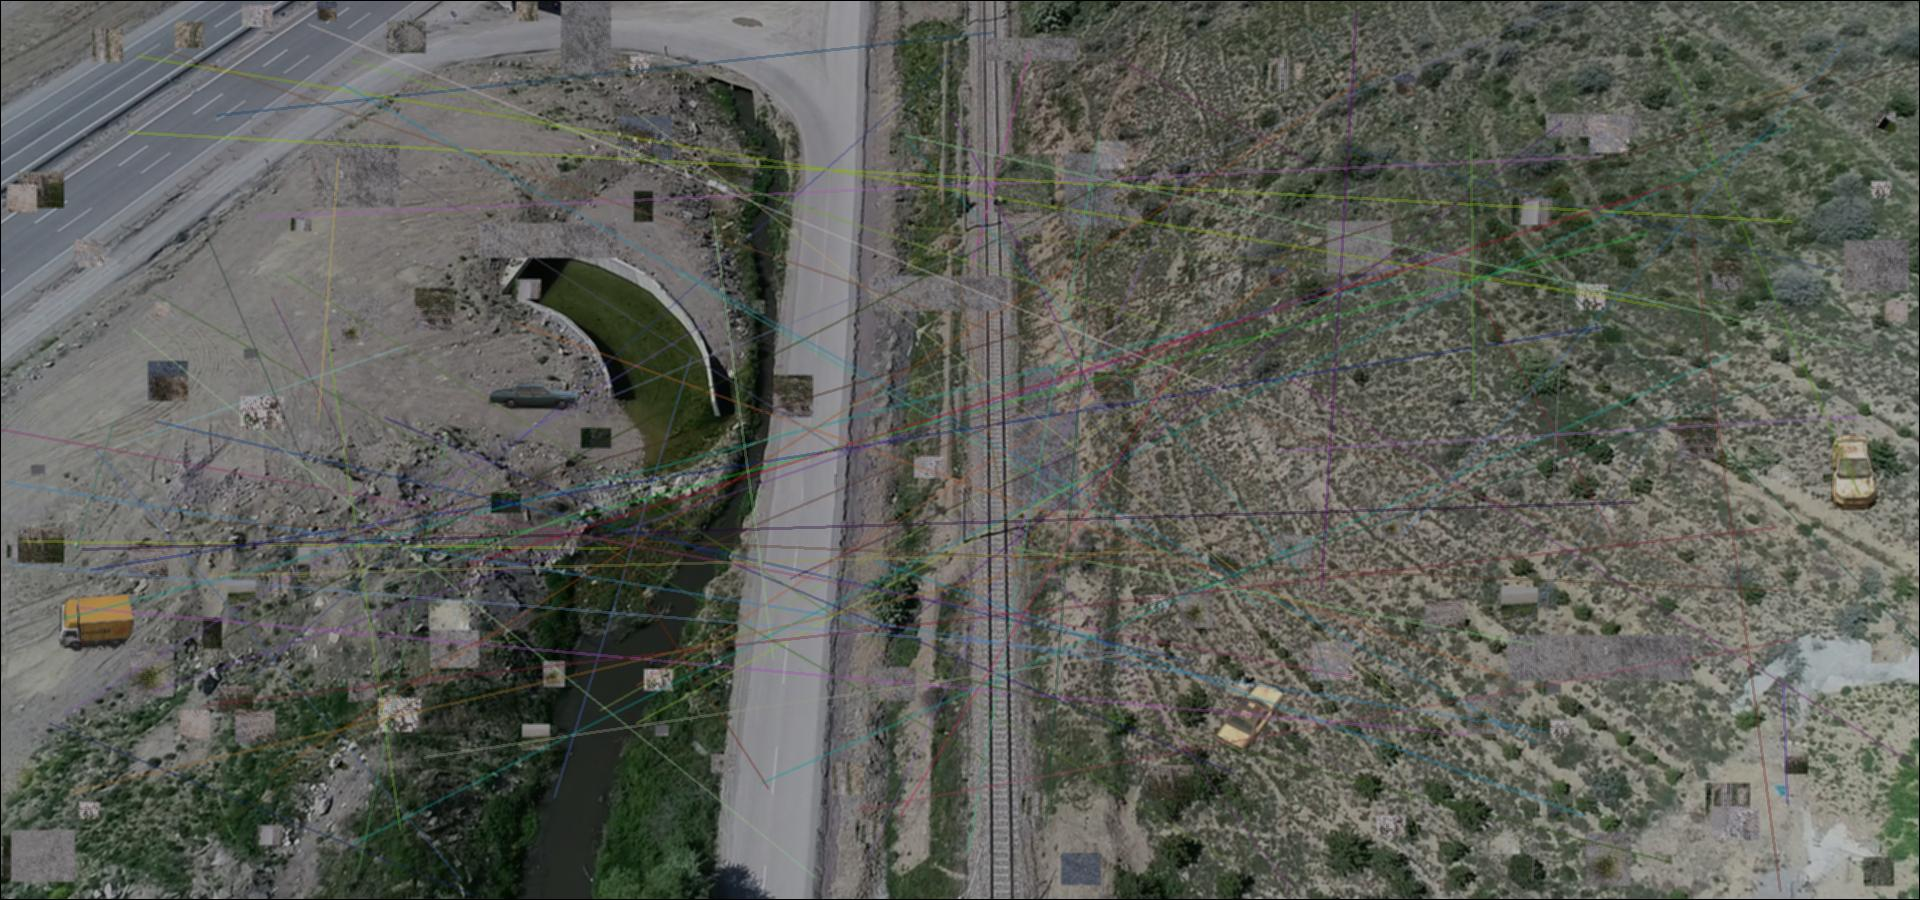arac: (1215, 681, 1284, 756), (58, 594, 133, 651), (1829, 433, 1880, 514), (484, 381, 583, 411)
